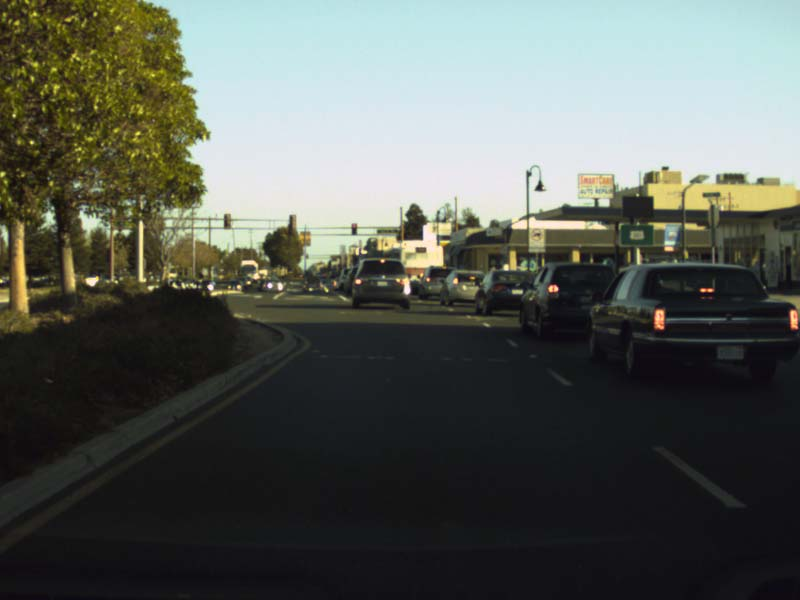Red: (350, 223, 357, 235)
